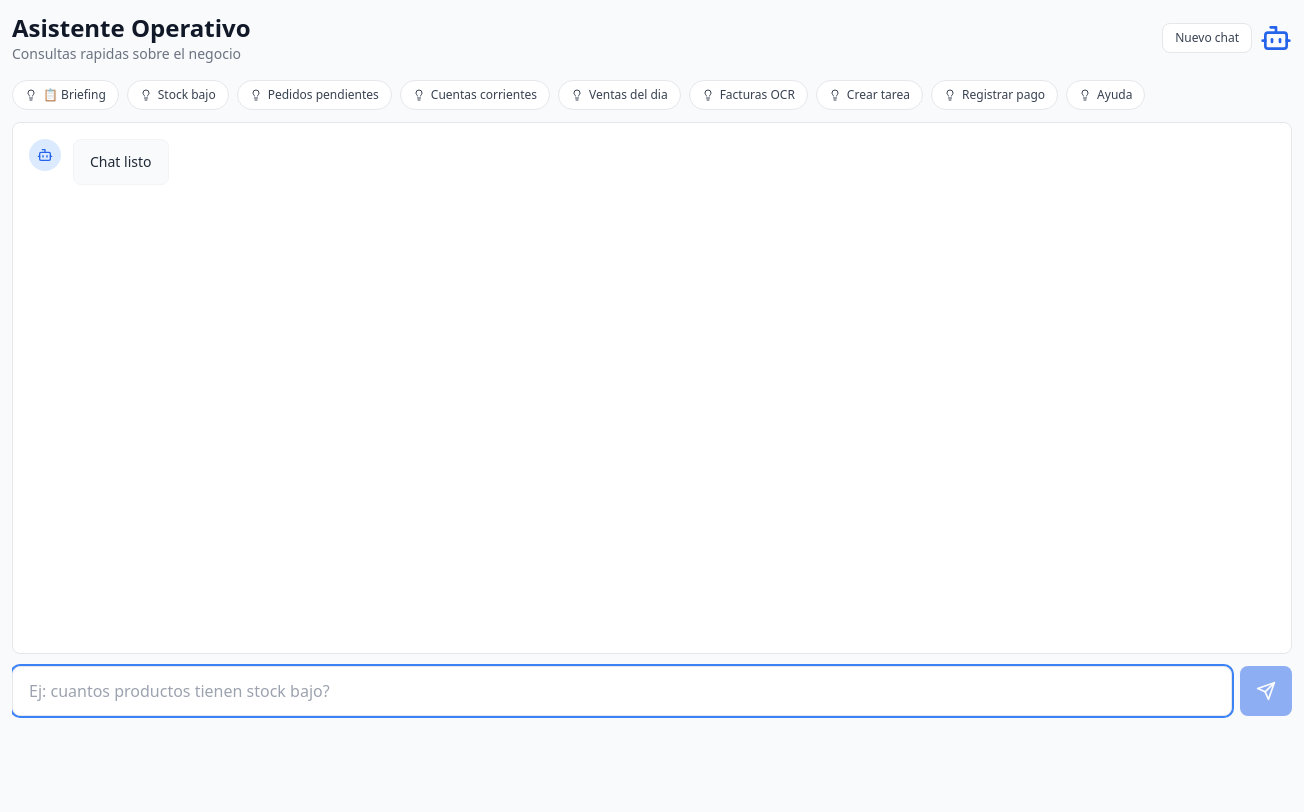
Asistente › shows plan card with Confirmar/Cancelar buttons on plan mode response
Type "crear tarea comprar harina" into the field with placeholder "Ej: cuantos productos tienen stock bajo?" at (622, 691), box top-left (12, 666), bottom-right (1232, 716)
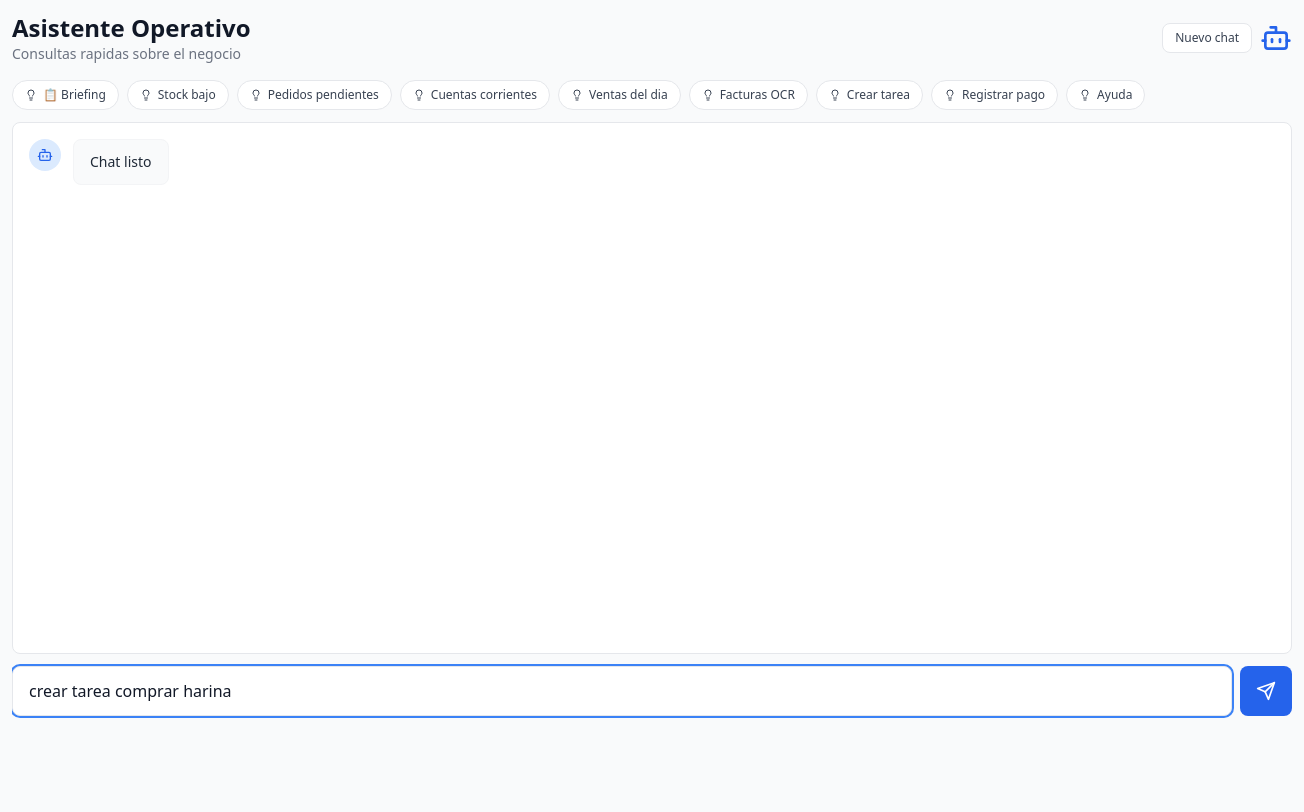
Click the button titled "Enviar" at (1266, 691), box top-left (1240, 666), bottom-right (1292, 716)
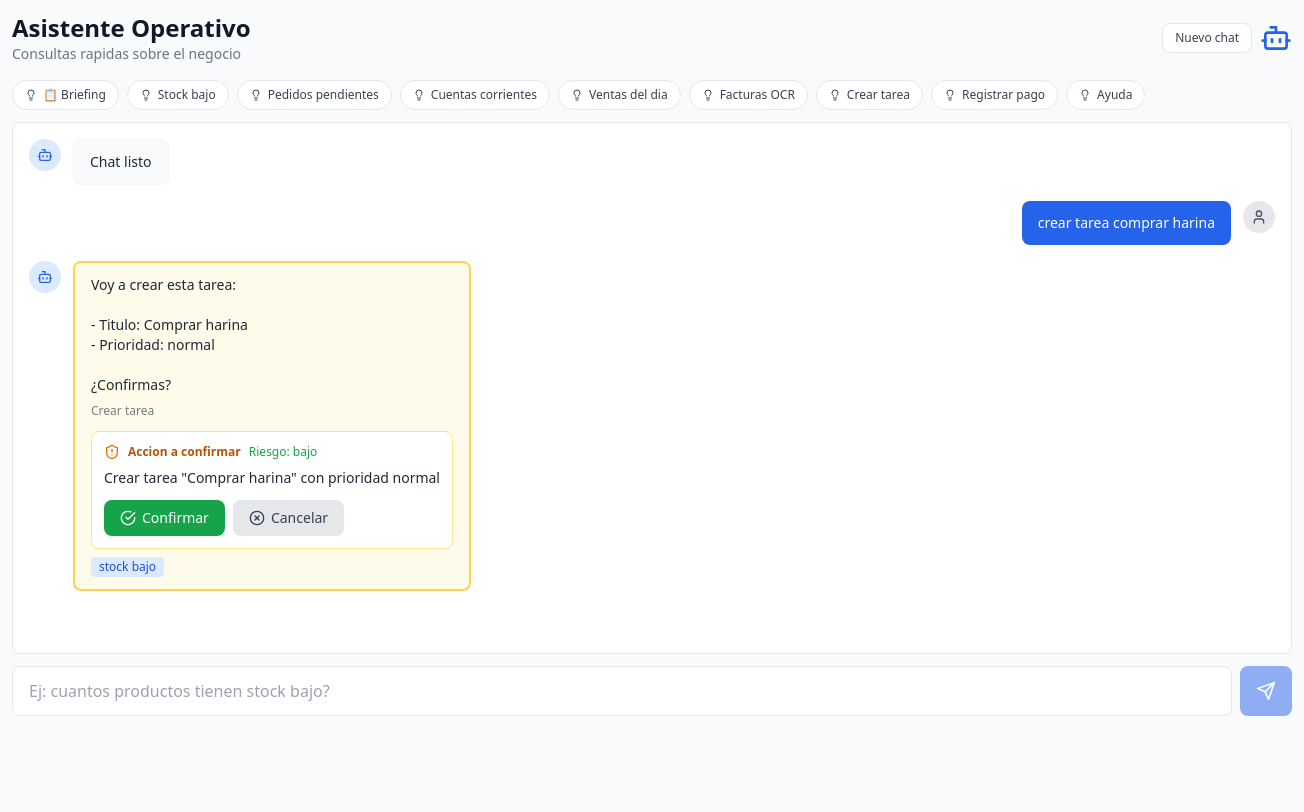
Now the text "Accion a confirmar" is shown, box top-left (128, 444), bottom-right (241, 460)
Now the text "Crear tarea \"Comprar harina\" con prioridad normal" is shown, box top-left (104, 468), bottom-right (440, 488)
Now the button "Confirmar" is shown, box top-left (104, 500), bottom-right (225, 536)
